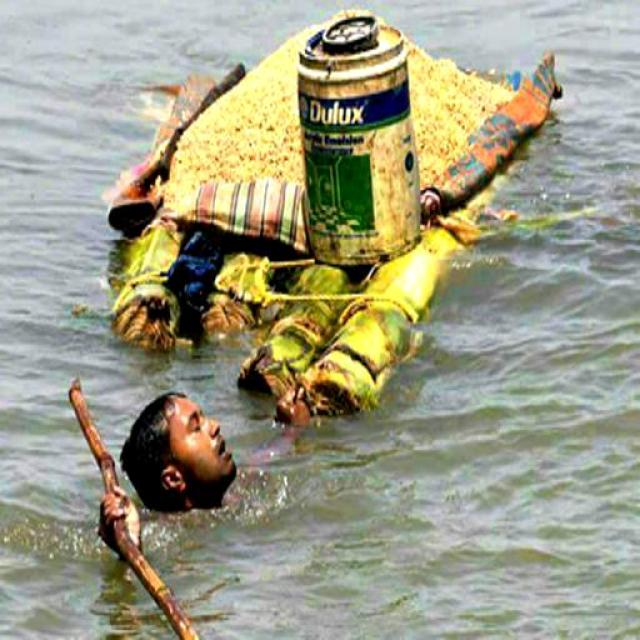civilian: (34, 354, 336, 581)
